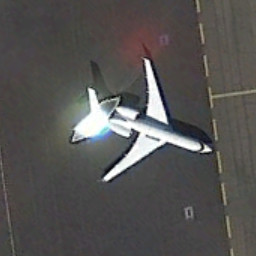Airplane: (73, 48, 221, 200)
